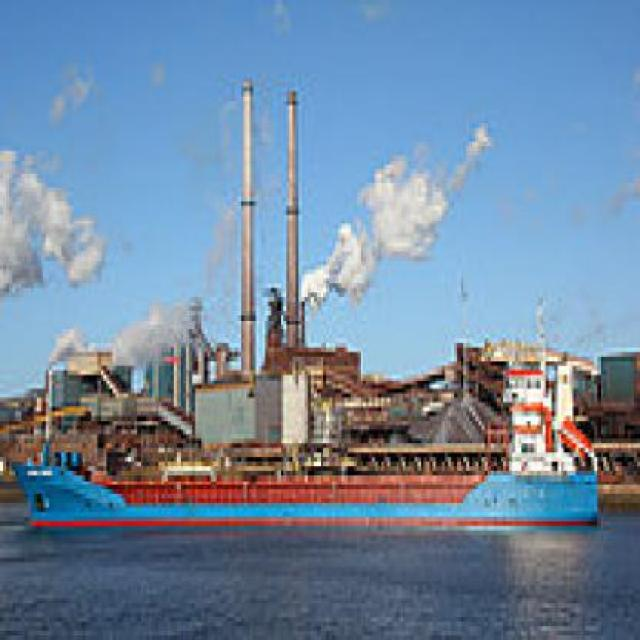container: (7, 421, 610, 541)
